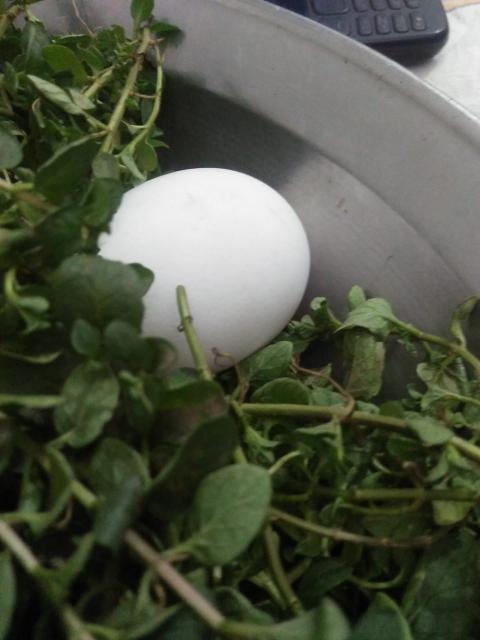Sano: (95, 166, 311, 377)
